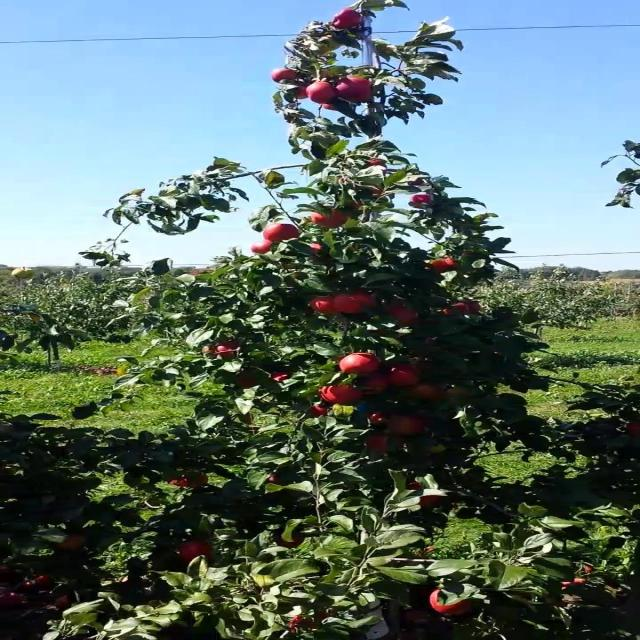apple: (433, 588, 473, 616), (333, 292, 377, 315), (177, 540, 215, 564), (340, 80, 377, 104), (340, 356, 384, 376), (326, 384, 363, 406), (262, 224, 302, 243), (312, 208, 348, 229), (390, 416, 427, 436), (333, 8, 364, 31), (390, 364, 421, 387), (305, 84, 338, 104), (426, 256, 460, 274), (369, 436, 405, 452), (390, 308, 420, 327), (362, 376, 391, 395), (269, 68, 300, 84), (56, 536, 87, 551), (312, 300, 341, 316), (412, 384, 441, 400), (170, 476, 206, 488), (212, 344, 242, 358), (369, 436, 393, 453), (276, 536, 306, 549), (248, 240, 272, 256), (177, 476, 208, 488), (291, 84, 311, 101), (447, 388, 473, 401), (369, 412, 393, 425), (241, 372, 258, 389), (419, 496, 443, 508), (412, 196, 434, 209), (312, 404, 331, 419), (319, 104, 354, 112), (269, 372, 292, 384), (461, 304, 484, 315), (170, 476, 190, 488), (319, 104, 347, 112), (426, 444, 448, 454), (625, 424, 639, 437), (454, 304, 468, 315), (369, 160, 388, 168), (440, 308, 459, 316), (312, 244, 324, 253), (412, 180, 427, 187), (269, 476, 281, 484), (412, 484, 425, 491)
